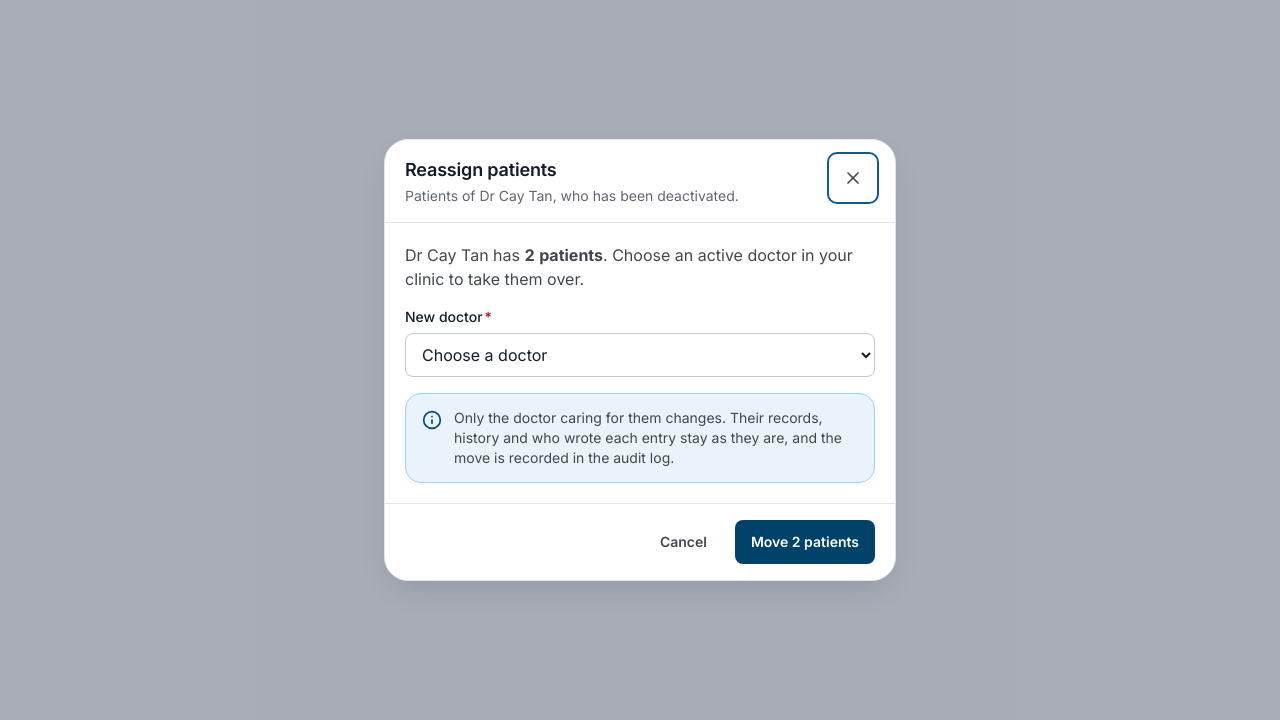
Test case: reassigning a deactivated doctor’s patients › moves them with the count that was shown, then confirms and hands focus to Done
Expected: the button "Move 2 patients" is shown, [735,520,875,564]
Select "Dr Bea Lim" in the dropdown labelled "New doctor*" at [640, 355], box [405,333,875,377]
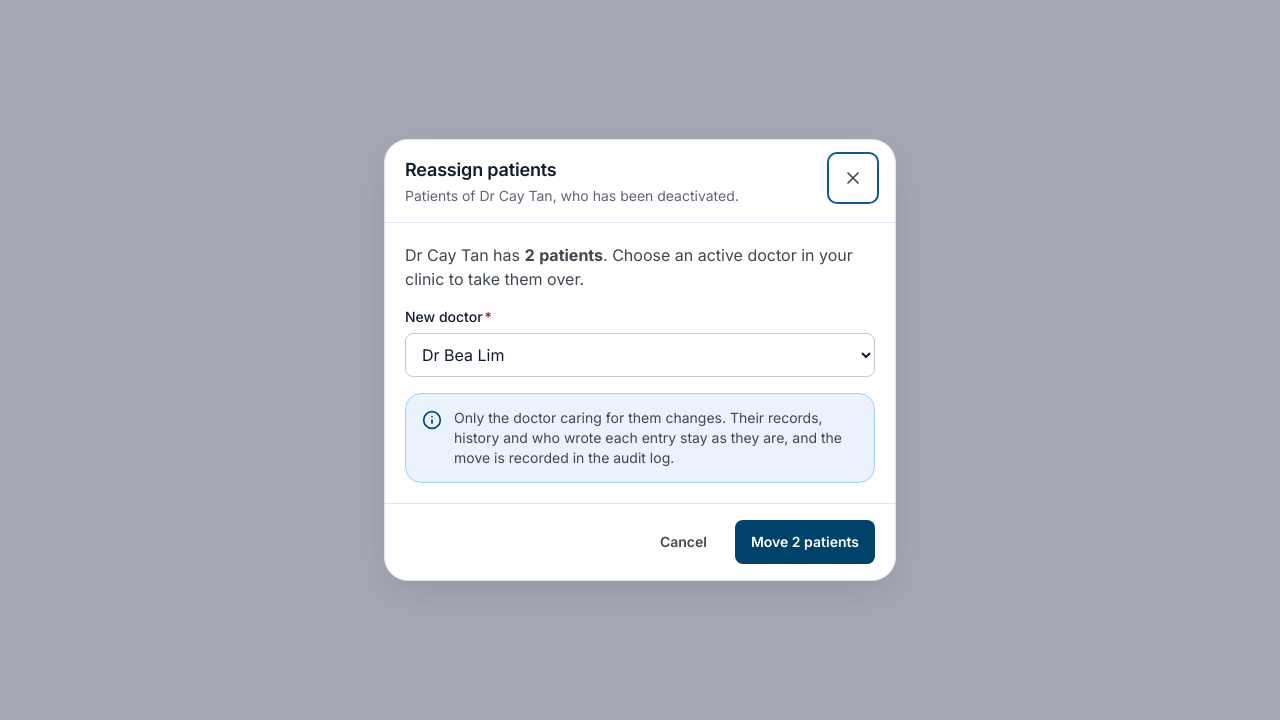
Click the button "Move 2 patients" at [805, 542], box [735,520,875,564]
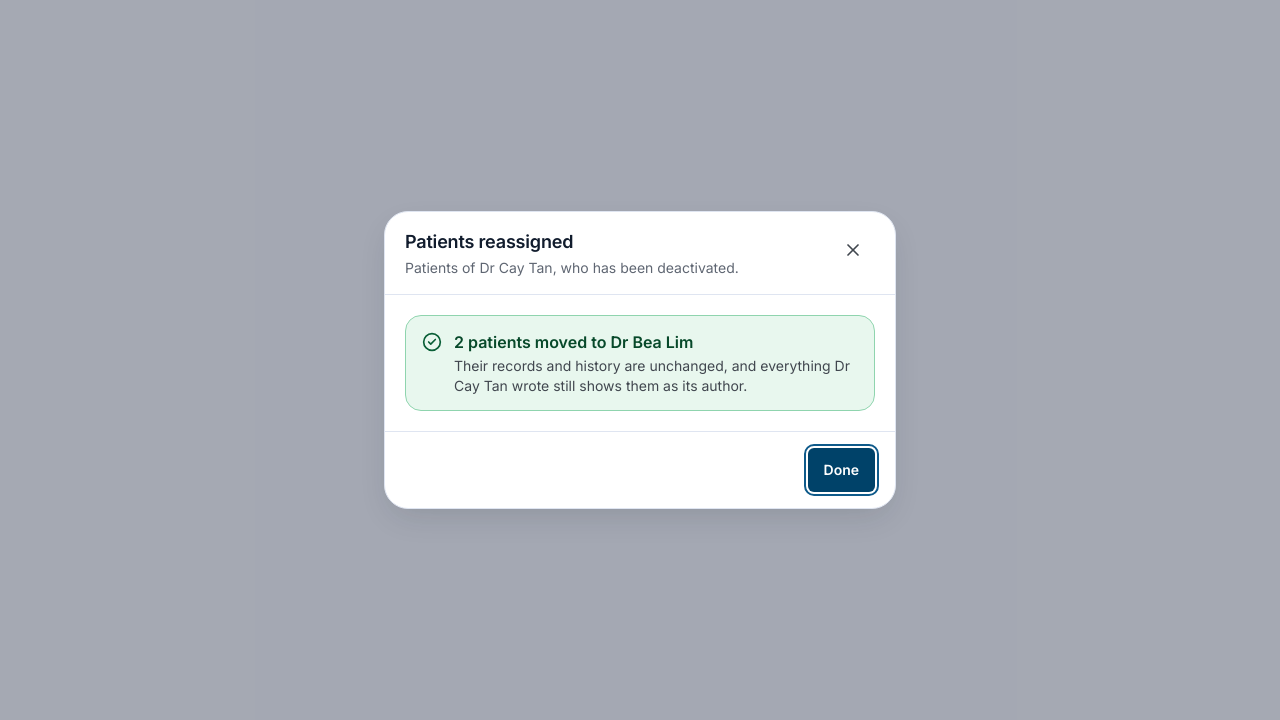
Expected: the dialog "Patients reassigned" is shown, [384,211,896,509]
Expected: the text "2 patients moved to Dr Bea Lim" is shown, [454,332,693,352]
